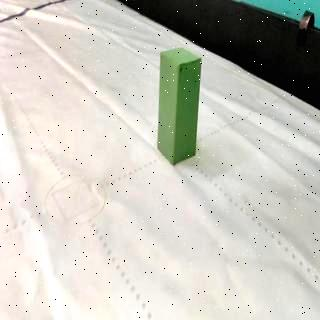greenbox: (158, 44, 205, 166)
